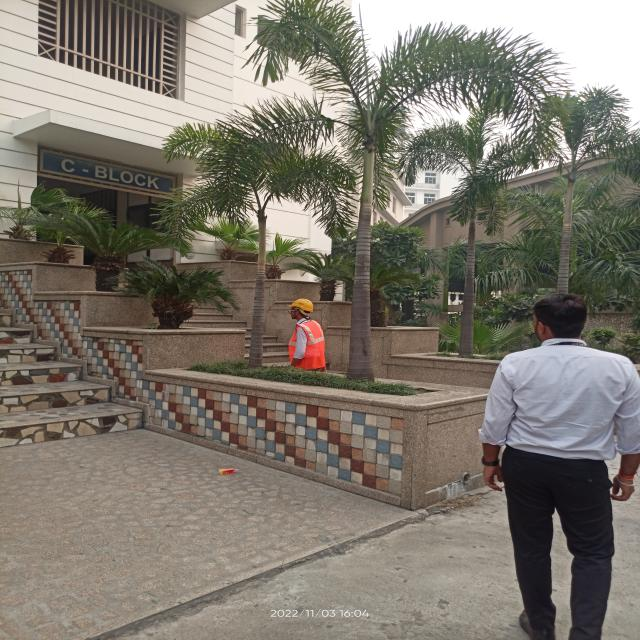safe: (285, 297, 330, 371)
unsafe: (486, 295, 640, 640)
